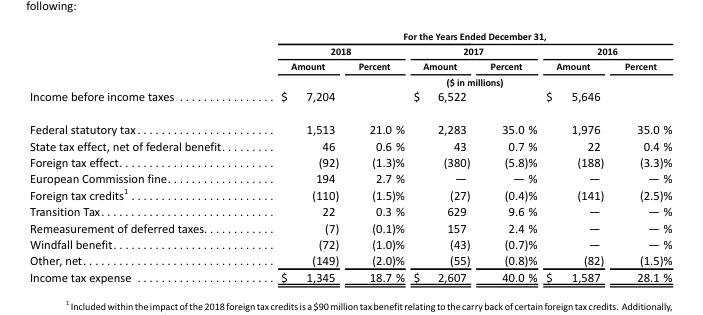table: (28, 29, 671, 284)
table column: (28, 29, 252, 284), (252, 29, 347, 284), (540, 29, 613, 284), (408, 29, 479, 284), (347, 29, 408, 284), (479, 29, 540, 284), (613, 29, 671, 284)
table column header: (28, 29, 671, 87)
table row: (28, 87, 671, 112), (28, 112, 671, 137), (28, 185, 671, 202), (28, 202, 671, 219), (28, 251, 671, 268), (28, 137, 671, 153), (28, 153, 671, 169), (28, 169, 671, 185), (28, 219, 671, 235), (28, 235, 671, 251), (28, 268, 671, 284), (28, 43, 671, 58), (28, 58, 671, 73), (28, 29, 671, 43), (28, 73, 671, 87)
table spanning cell: (252, 29, 671, 43), (252, 73, 671, 87), (252, 43, 408, 58), (408, 43, 540, 58), (540, 43, 671, 58)
